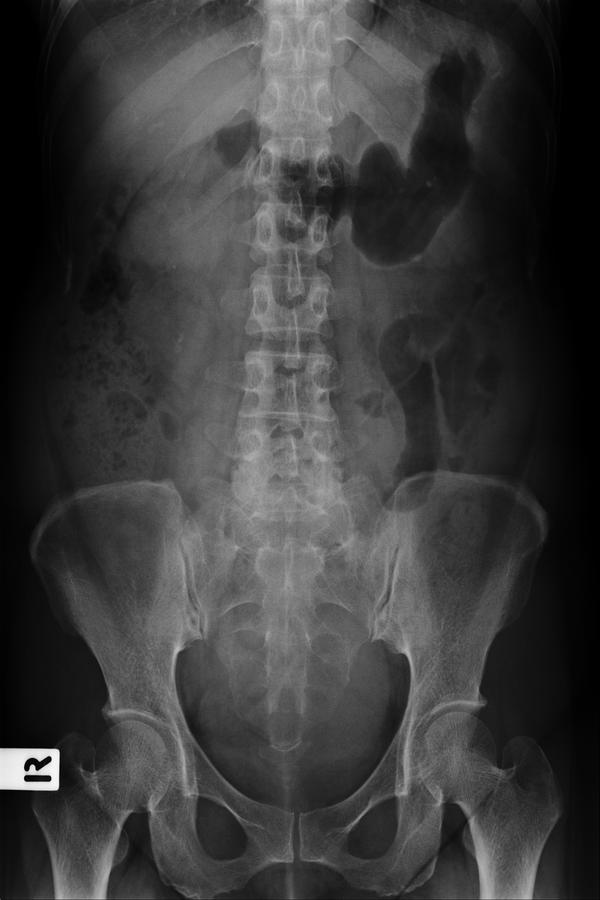not lumbar scoliosis: (242, 222, 342, 577)
